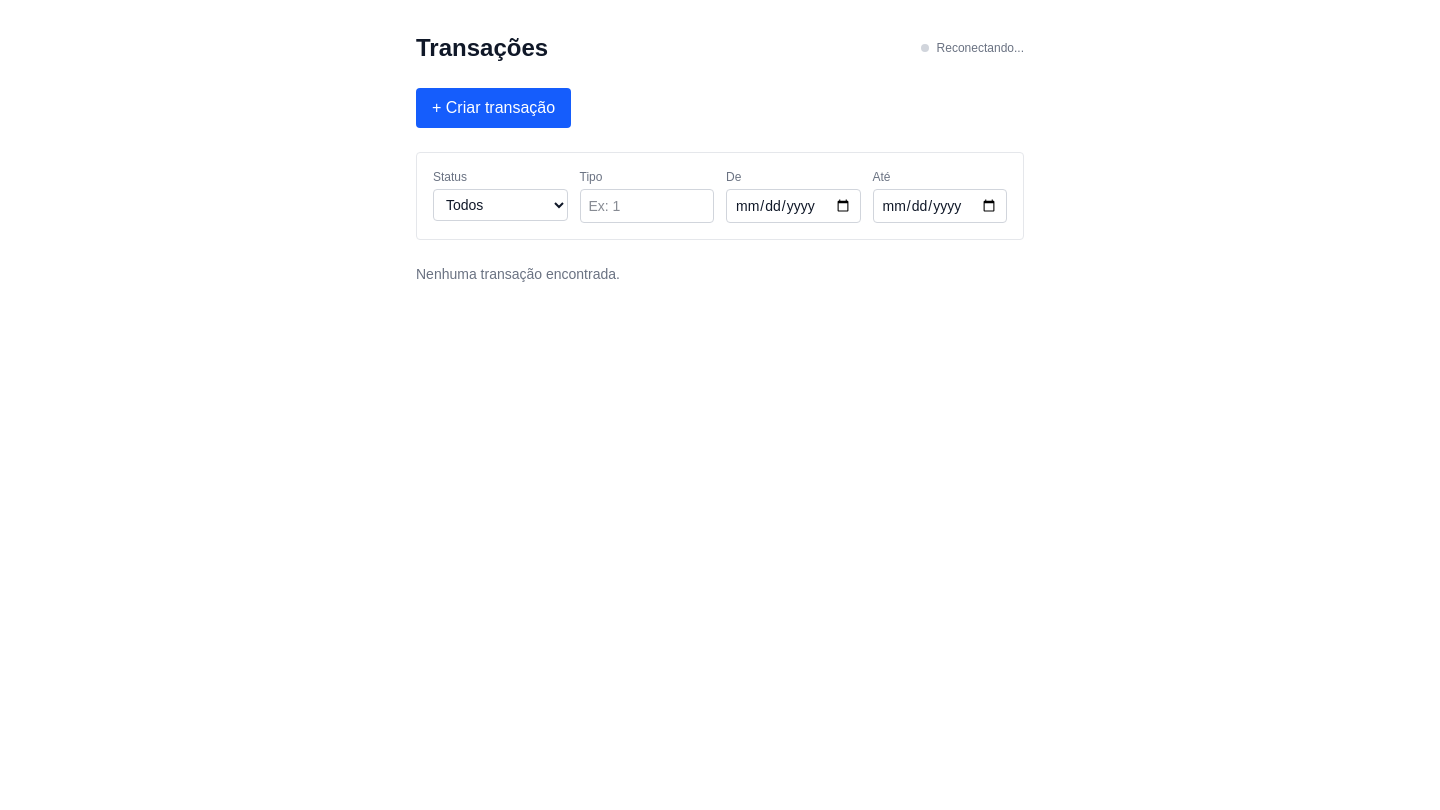
Test: Home › fecha o modal ao clicar em cancelar
The image size is (1440, 810).
What coordinates should you click on to do the following:
click the button "+ Criar transação"
I would click on:
 (494, 108)
Its box is [416, 88, 571, 128].
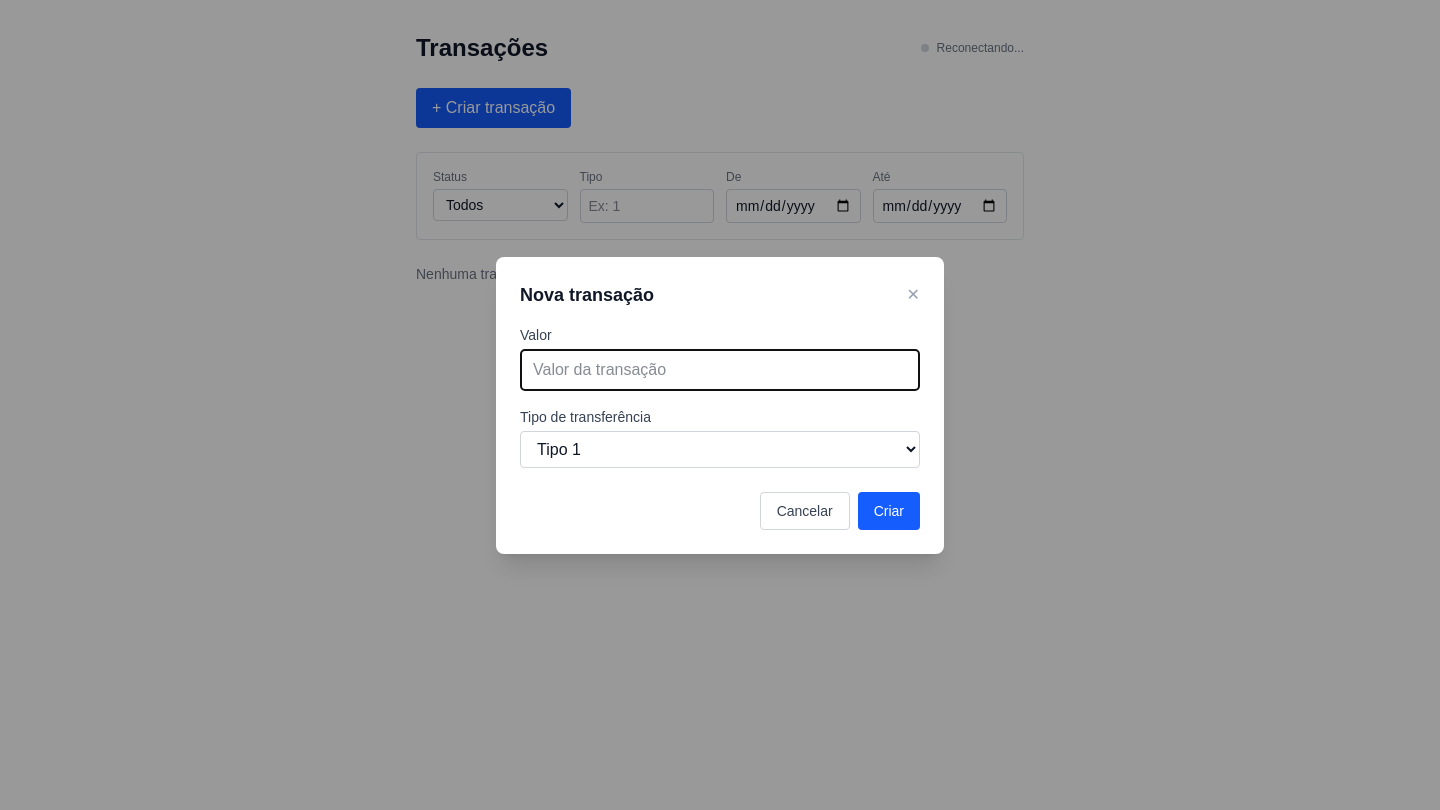
Now the heading "Nova transação" is shown, box [520, 280, 654, 308]
What coordinates should you click on to do the following:
click the button "Cancelar"
I would click on:
 (805, 510)
Its box is [760, 492, 850, 530].
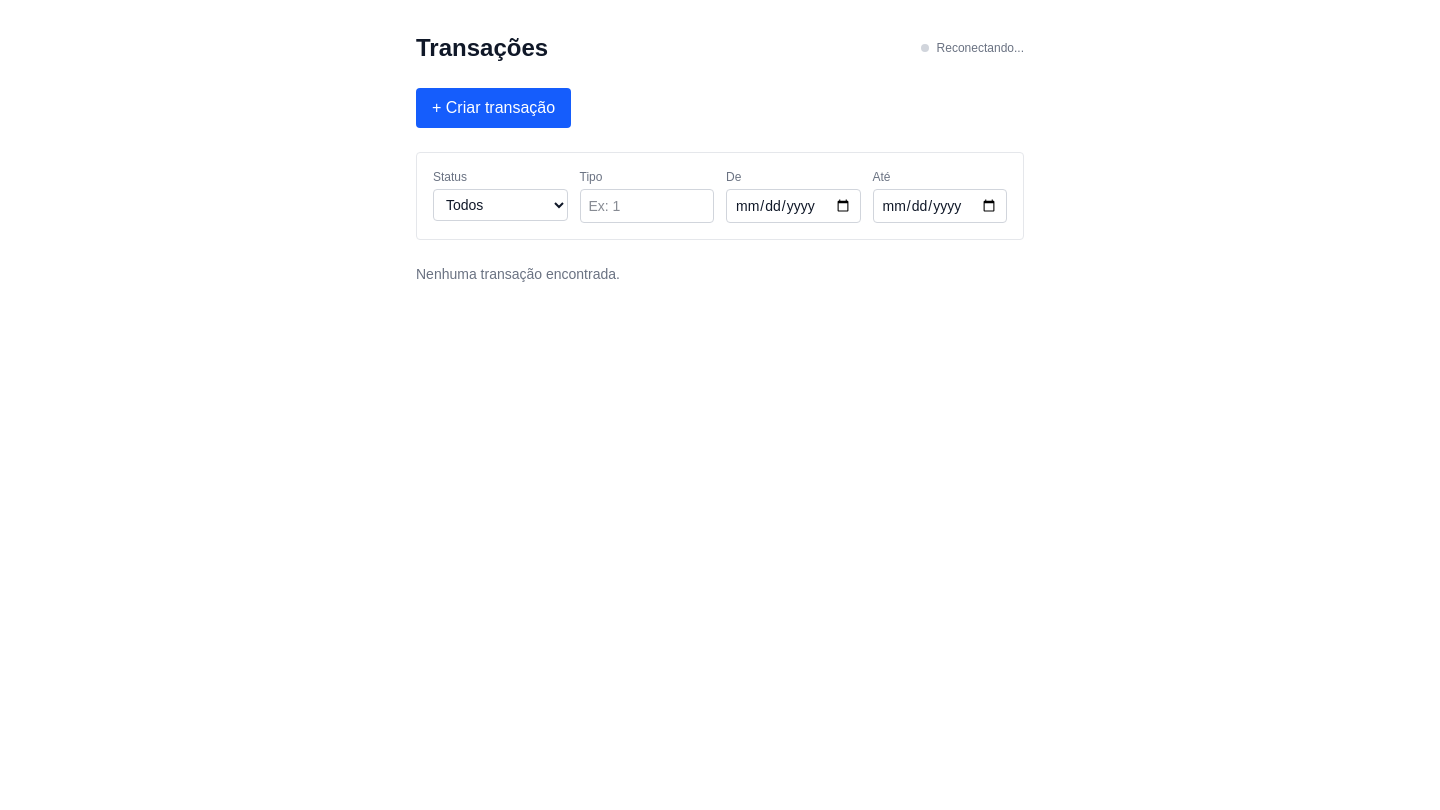
Now the heading "Nova transação" is gone
